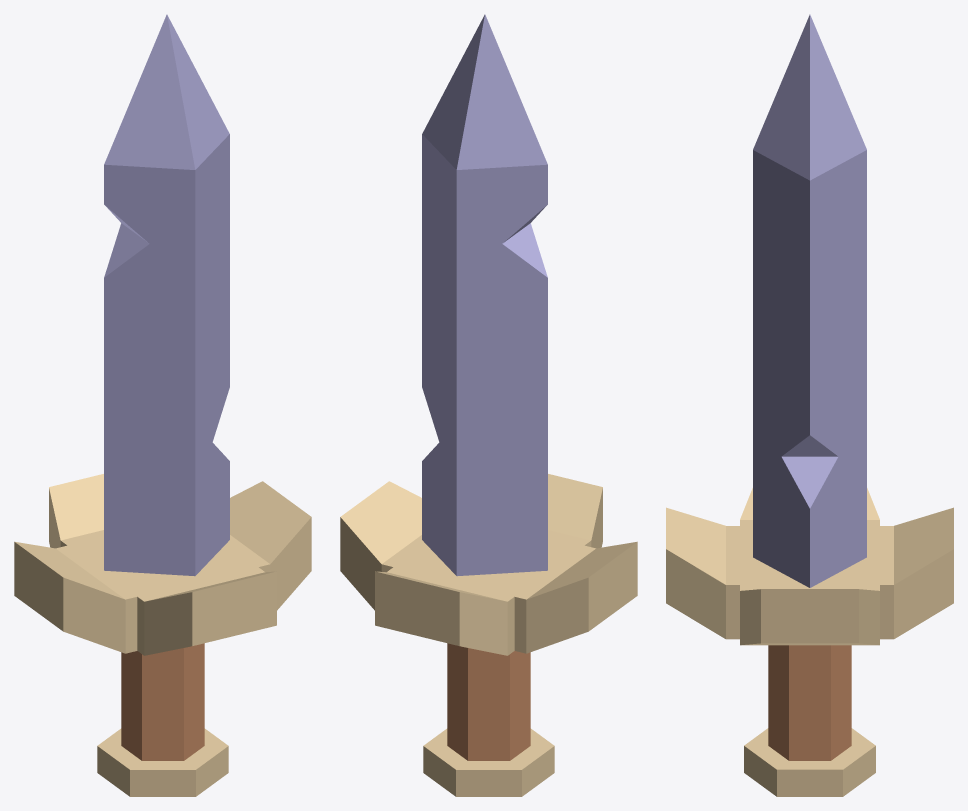
File: TrainingDagger.fbx
3 views of the same model, side by side, from view 1: azimuth 30°, elevation 25°; view 2: azimuth 150°, elevation 25°; view 3: azimuth 270°, elevation 25° (orthographic).
Parts seen in each view (by area): view 1: mergedBlocks; view 2: mergedBlocks; view 3: mergedBlocks.
Boxes of the visible parts, left/top/right/bottom form: mergedBlocks: left=14, top=14, right=311, bottom=796; mergedBlocks: left=340, top=14, right=637, bottom=796; mergedBlocks: left=666, top=14, right=953, bottom=796.
Size of the model in its own units: 4.8 by 14 by 4.8.
